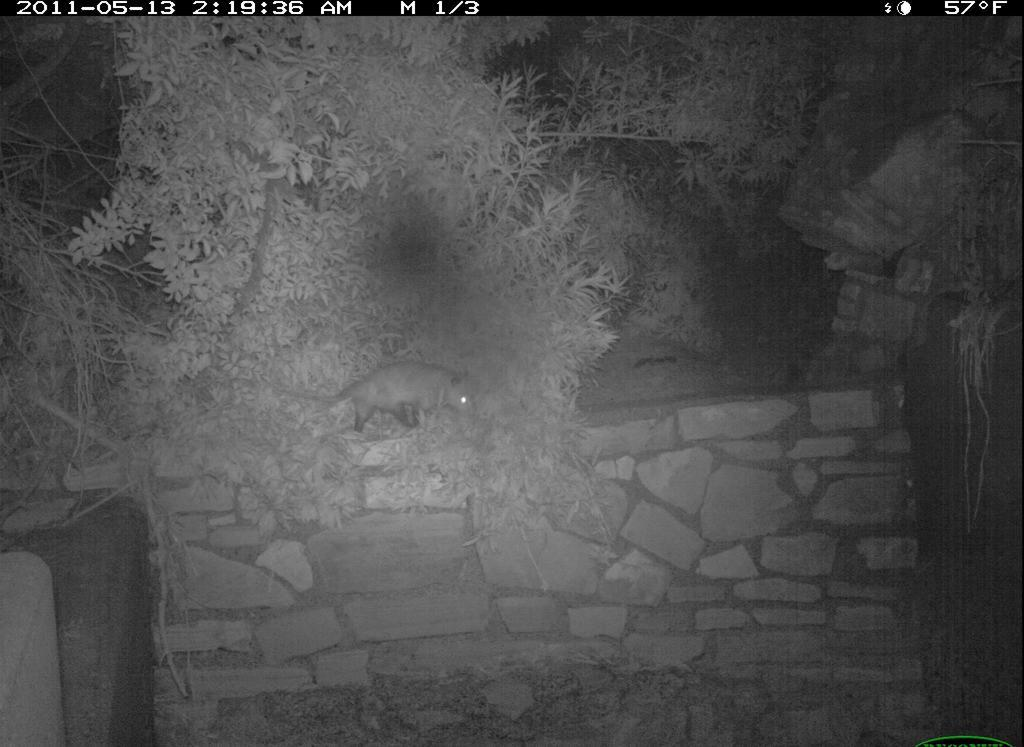opossum: (272, 358, 514, 437)
